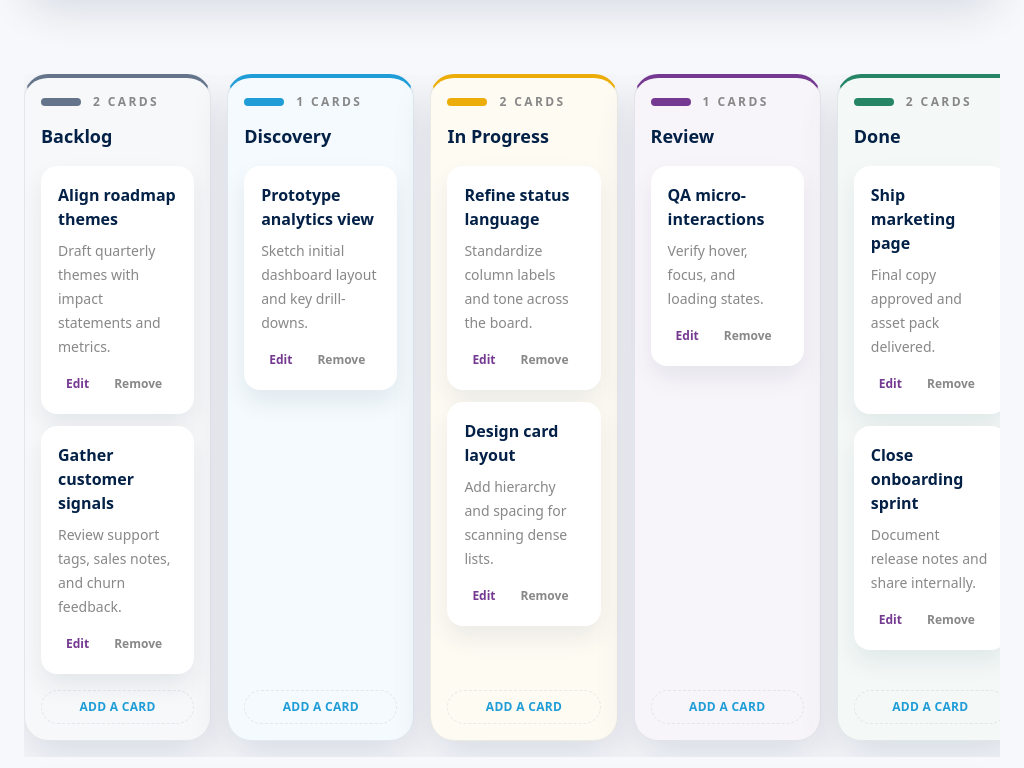
Test: persistent KanbanBoard › reloads authoritative state after a conflict
(page scrolled)
Click the button with aria-label "Delete Align roadmap themes": (138, 384) [105,371,171,397]
(page scrolled)
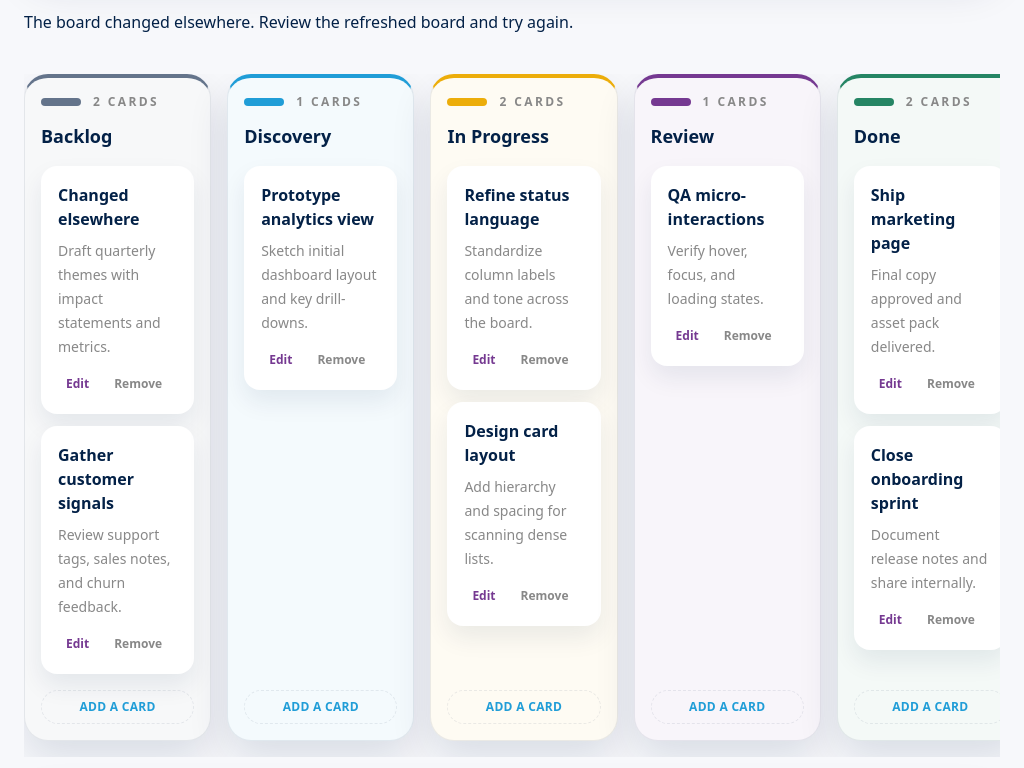
expect the heading "Changed elsewhere" is shown: met, box [58,184,140,230]
expect the message shows "changed elsewhere": met, box [24,11,573,33]
